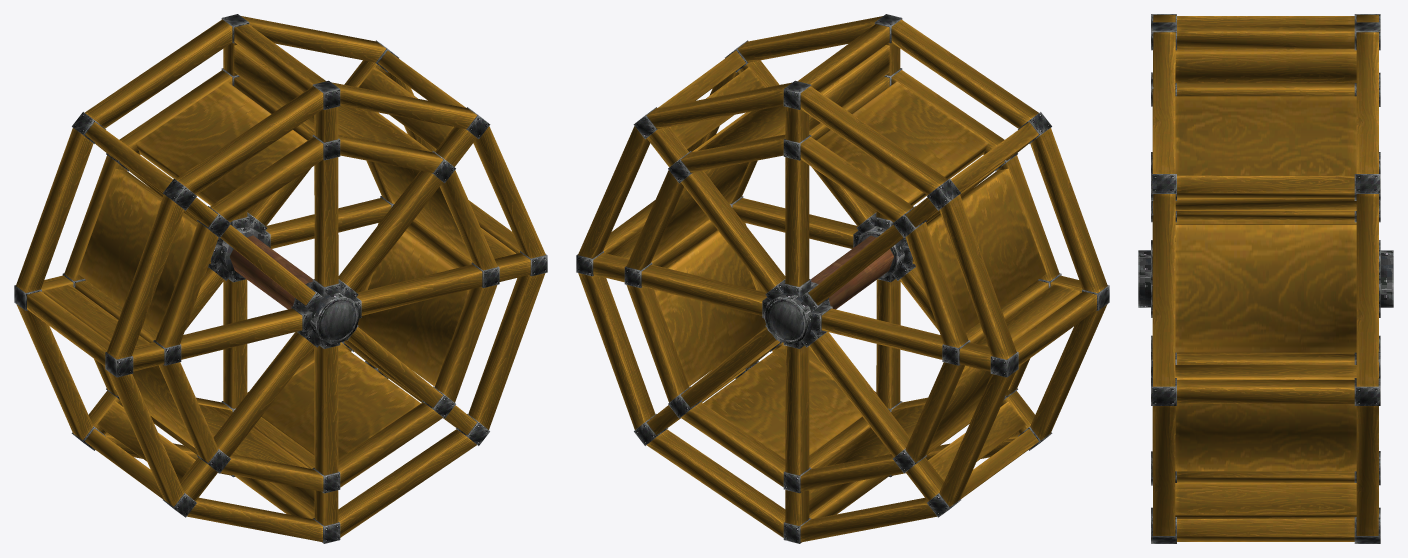
The model's file is INST_HTOWN_WATERWHEEL.fbx.
3 views of the same model, side by side, from view 1: azimuth 30°, elevation 25°; view 2: azimuth 150°, elevation 25°; view 3: azimuth 270°, elevation 25° (orthographic). The views are drawn at different scales.
Parts seen in each view (by area): view 1: INST_HTOWN_WATERWHEEL; view 2: INST_HTOWN_WATERWHEEL; view 3: INST_HTOWN_WATERWHEEL.
Part boxes in pixels (<box>): INST_HTOWN_WATERWHEEL: <box>14,14,547,543</box>; INST_HTOWN_WATERWHEEL: <box>576,14,1109,543</box>; INST_HTOWN_WATERWHEEL: <box>1138,14,1393,543</box>.
Size of the model in its own units: 88373 by 88374 by 40596.
Materials: 5 (5 with a texture image).
